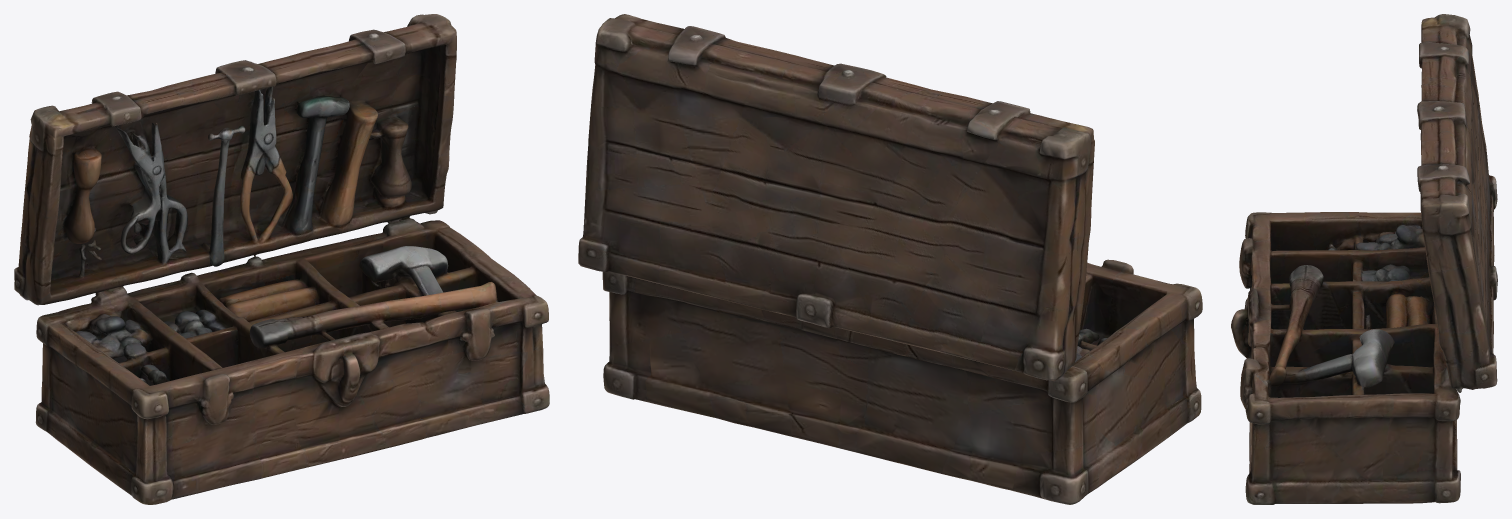
The picture shows the model from 3 angles, left to right: view 1: azimuth 30°, elevation 25°; view 2: azimuth 150°, elevation 25°; view 3: azimuth 270°, elevation 25°; orthographic projection. The views are drawn at different scales.
Bounding box in the file's own units: 2 × 1.48 × 1.17.
1 material, 1 textured.
